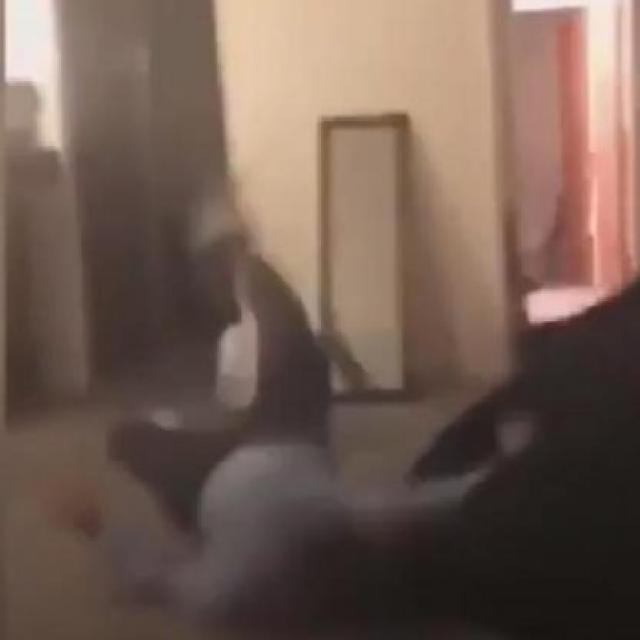fall: (56, 197, 498, 626)
